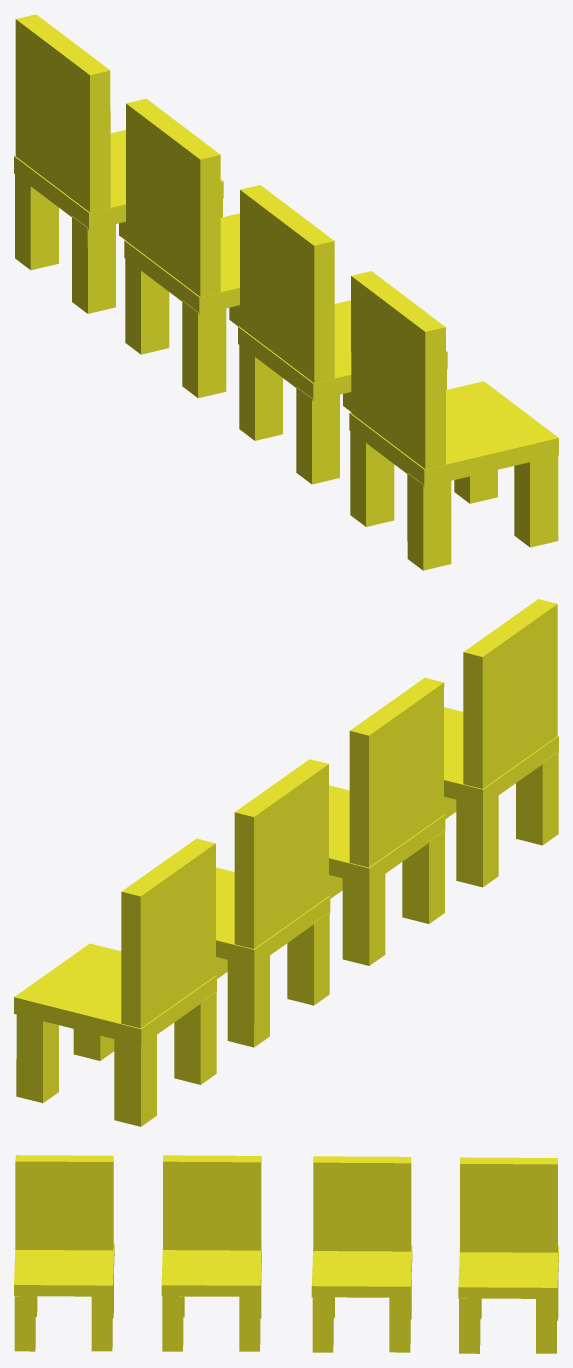
Rendered from seatrow_yellow.glb.
3 views of the same model, one above another, from view 1: azimuth 30°, elevation 25°; view 2: azimuth 150°, elevation 25°; view 3: azimuth 270°, elevation 25° (orthographic). The views are drawn at different scales.
Parts seen in each view (by area): view 1: 4chair.001; view 2: 4chair.001; view 3: 4chair.001.
Part boxes in pixels (x1,y1,x2,y2): 4chair.001: (14,14,558,570); 4chair.001: (14,599,558,1126); 4chair.001: (14,1155,558,1353).
Size of the model in its own units: 1.31 by 2.08 by 6.59.
